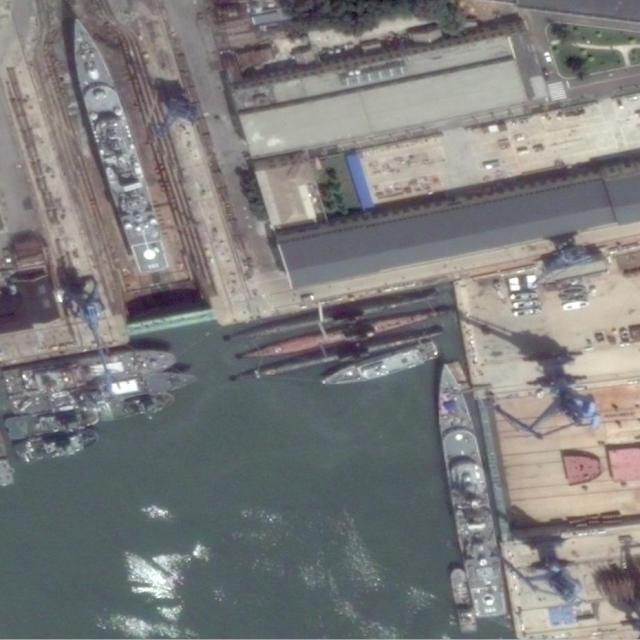Frigate: (61, 12, 173, 280), (428, 357, 508, 623)
Other Warship: (4, 342, 179, 394), (10, 367, 198, 415), (317, 343, 445, 392), (13, 425, 101, 465), (6, 403, 100, 438), (98, 392, 178, 423), (448, 566, 477, 635)
Submarine: (227, 321, 449, 390), (236, 300, 456, 366), (220, 286, 447, 348)
